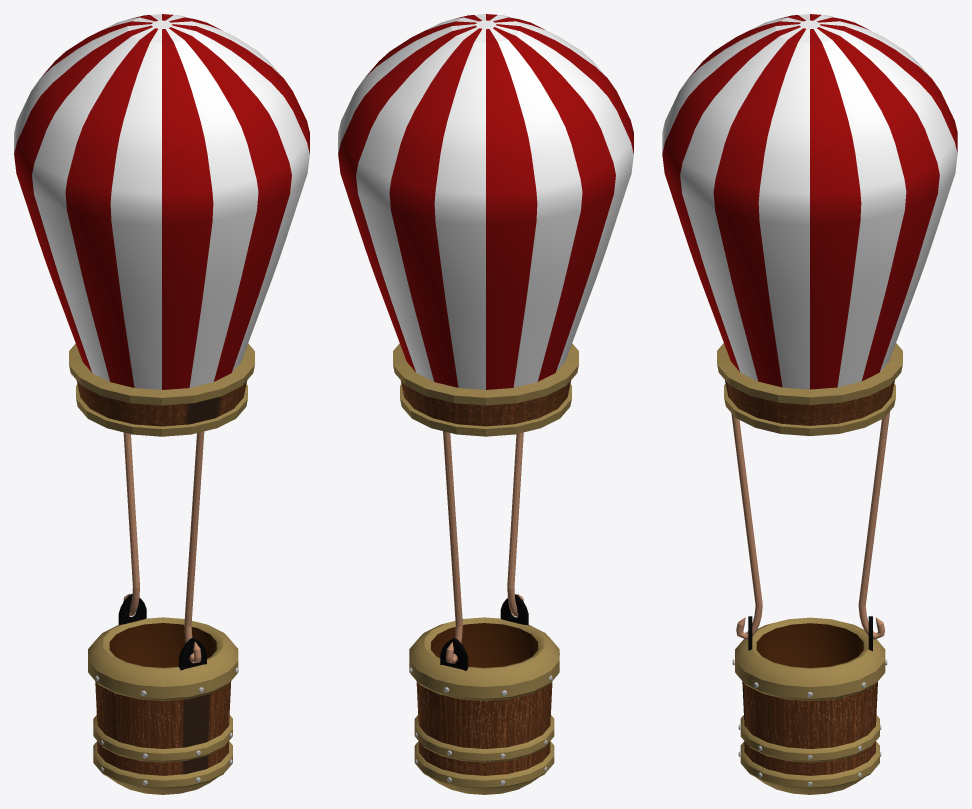
The model's file is ballon3.gltf.
The picture shows the model from 3 angles, left to right: view 1: azimuth 30°, elevation 25°; view 2: azimuth 150°, elevation 25°; view 3: azimuth 270°, elevation 25°; orthographic projection.
Parts seen in each view (by area): view 1: Cylinder028, Cylinder001, Line002, Line001, Box001; view 2: Cylinder028, Cylinder001, Line001, Line002, Box001; view 3: Cylinder028, Cylinder001, Line002, Line001.
Boxes of the visible parts, x1,y1,x2,y2 form: Cylinder028: [14, 14, 309, 436]; Cylinder001: [88, 617, 238, 794]; Line002: [184, 431, 204, 663]; Line001: [123, 432, 139, 616]; Box001: [118, 594, 206, 670]; Cylinder028: [338, 14, 633, 436]; Cylinder001: [409, 617, 559, 794]; Line001: [443, 431, 462, 663]; Line002: [507, 432, 523, 616]; Box001: [440, 594, 528, 670]; Cylinder028: [662, 14, 957, 435]; Cylinder001: [735, 617, 885, 794]; Line002: [731, 413, 762, 639]; Line001: [858, 411, 889, 639].
Bounding box in the file's own units: 2.13 × 5.93 × 2.09.
Materials: 10 (2 with a texture image).
